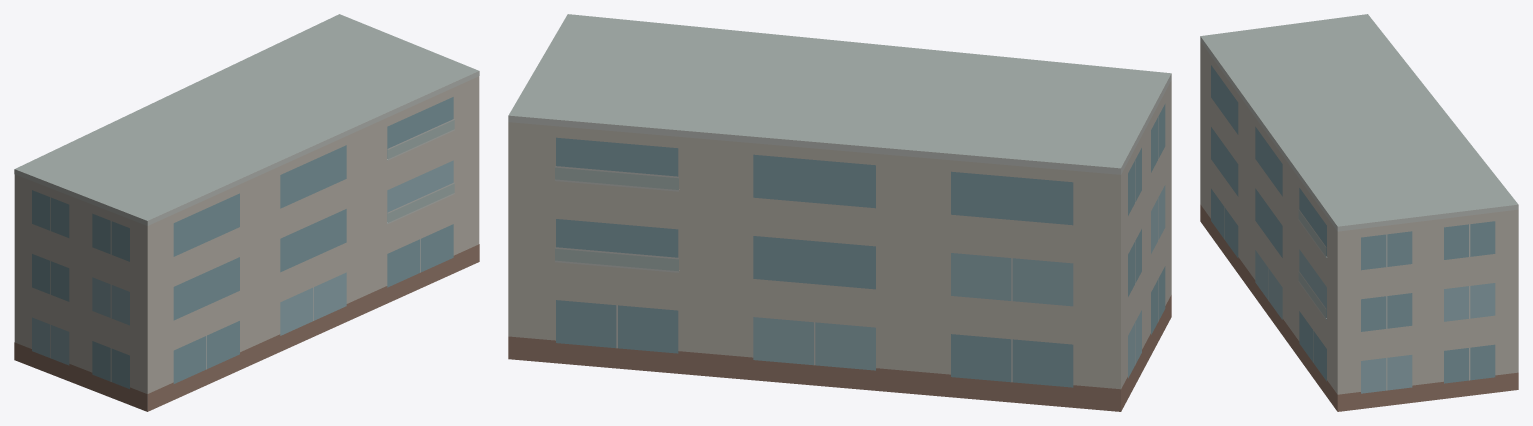
Rendered from survey-upis-33010101.glb.
3 renders of one model, left to right at view 1: azimuth 30°, elevation 25°; view 2: azimuth 150°, elevation 25°; view 3: azimuth 270°, elevation 25°, orthographic. The views are drawn at different scales.
Parts seen in each view (by area): view 1: survey-upis-33010101.tmp; view 2: survey-upis-33010101.tmp; view 3: survey-upis-33010101.tmp.
Part boxes in pixels (x1,y1,x2,y2): survey-upis-33010101.tmp: (14, 14, 479, 411); survey-upis-33010101.tmp: (508, 14, 1171, 411); survey-upis-33010101.tmp: (1200, 14, 1518, 411).
Size of the model in its own units: 22.42 by 9.1 by 14.18.
